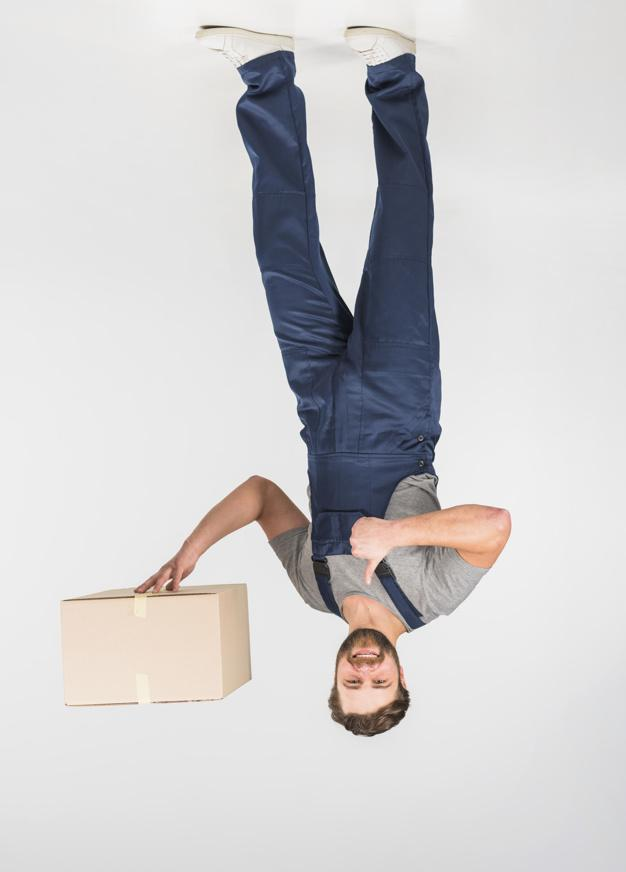thumbsdown: (349, 517, 380, 585)
